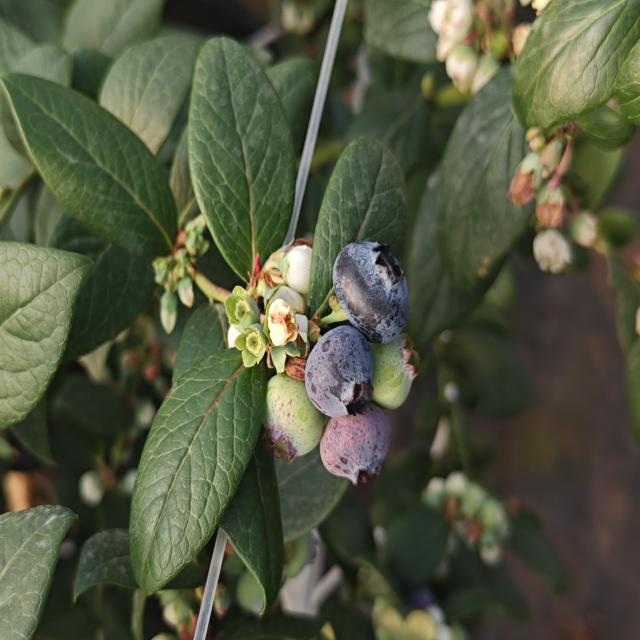ripe: (325, 235, 420, 346), (299, 322, 386, 422)
